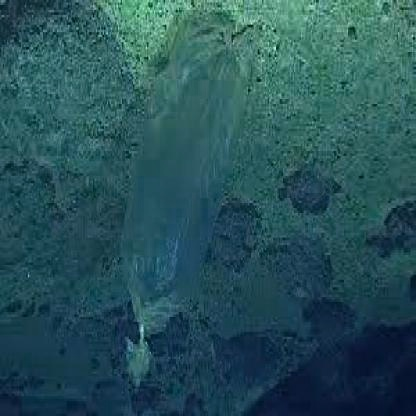pbag: (117, 2, 255, 389)
